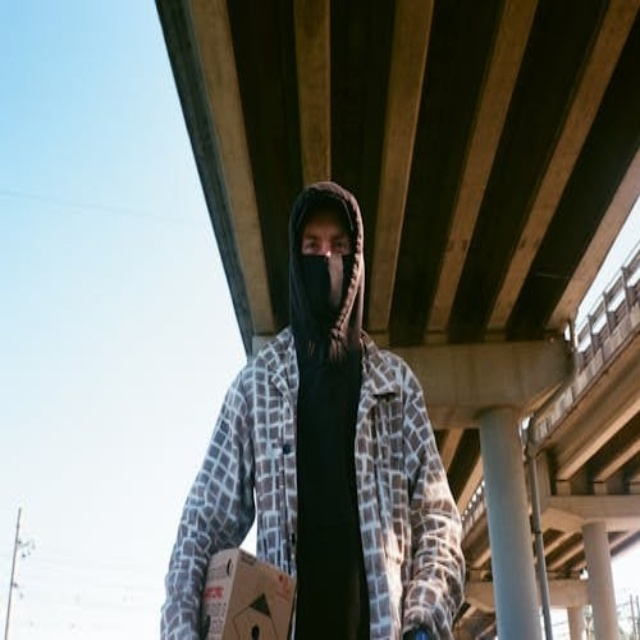Mascara: (297, 253, 348, 335)
Sin_gafas: (302, 228, 347, 253)
